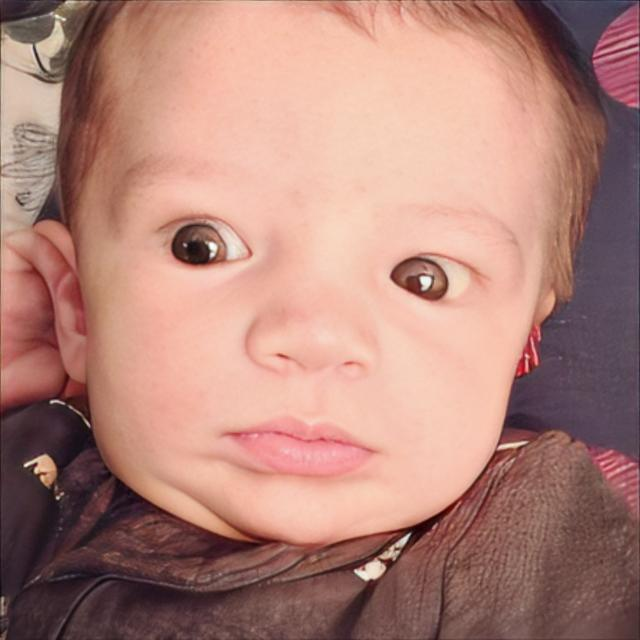fear: (59, 0, 552, 547)
